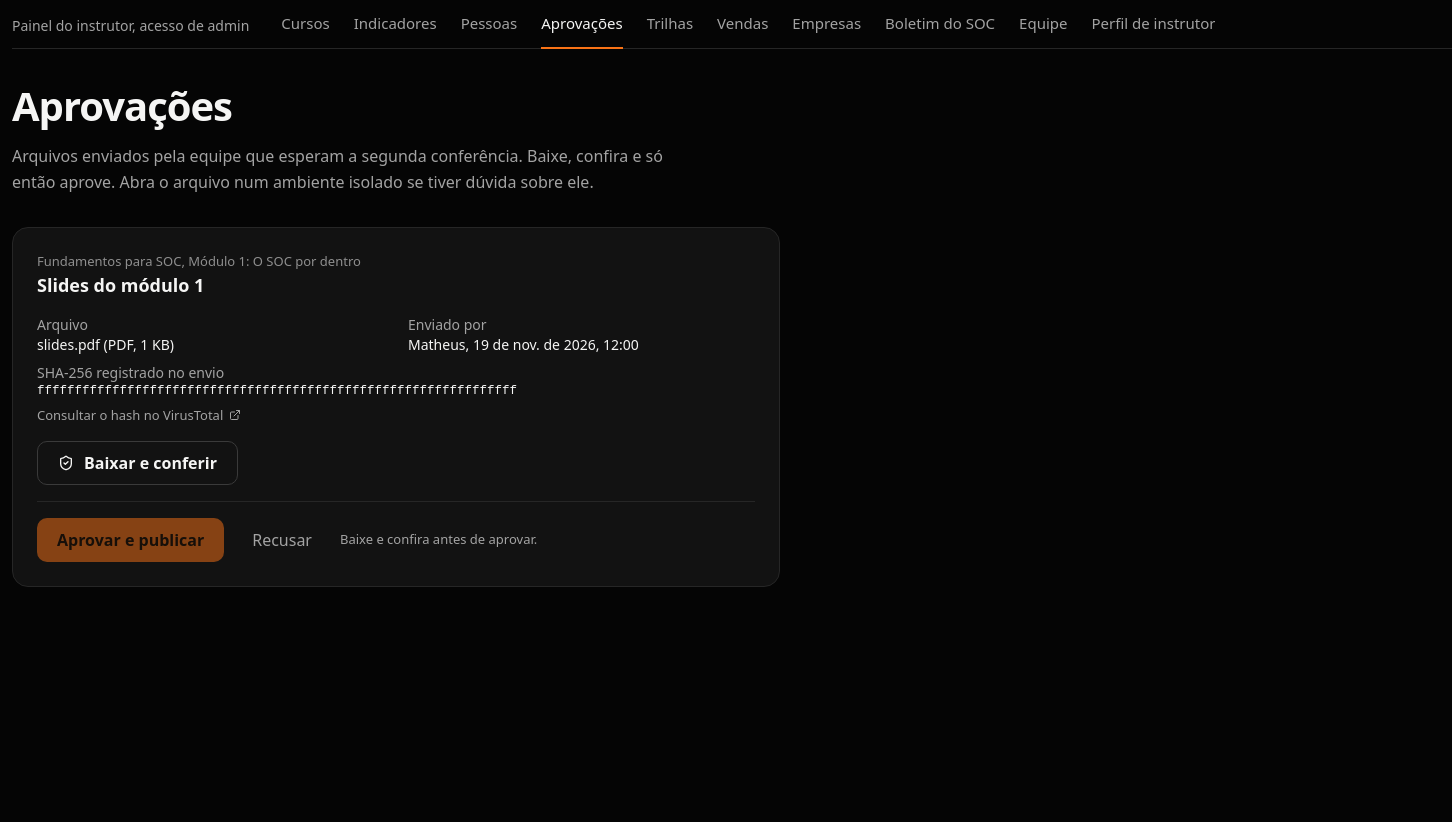
Scenario: Aprovações › hash diferente bloqueia a aprovação e orienta a recusar
Click the button "Baixar e conferir" at (138, 463), box [37,441,238,485]
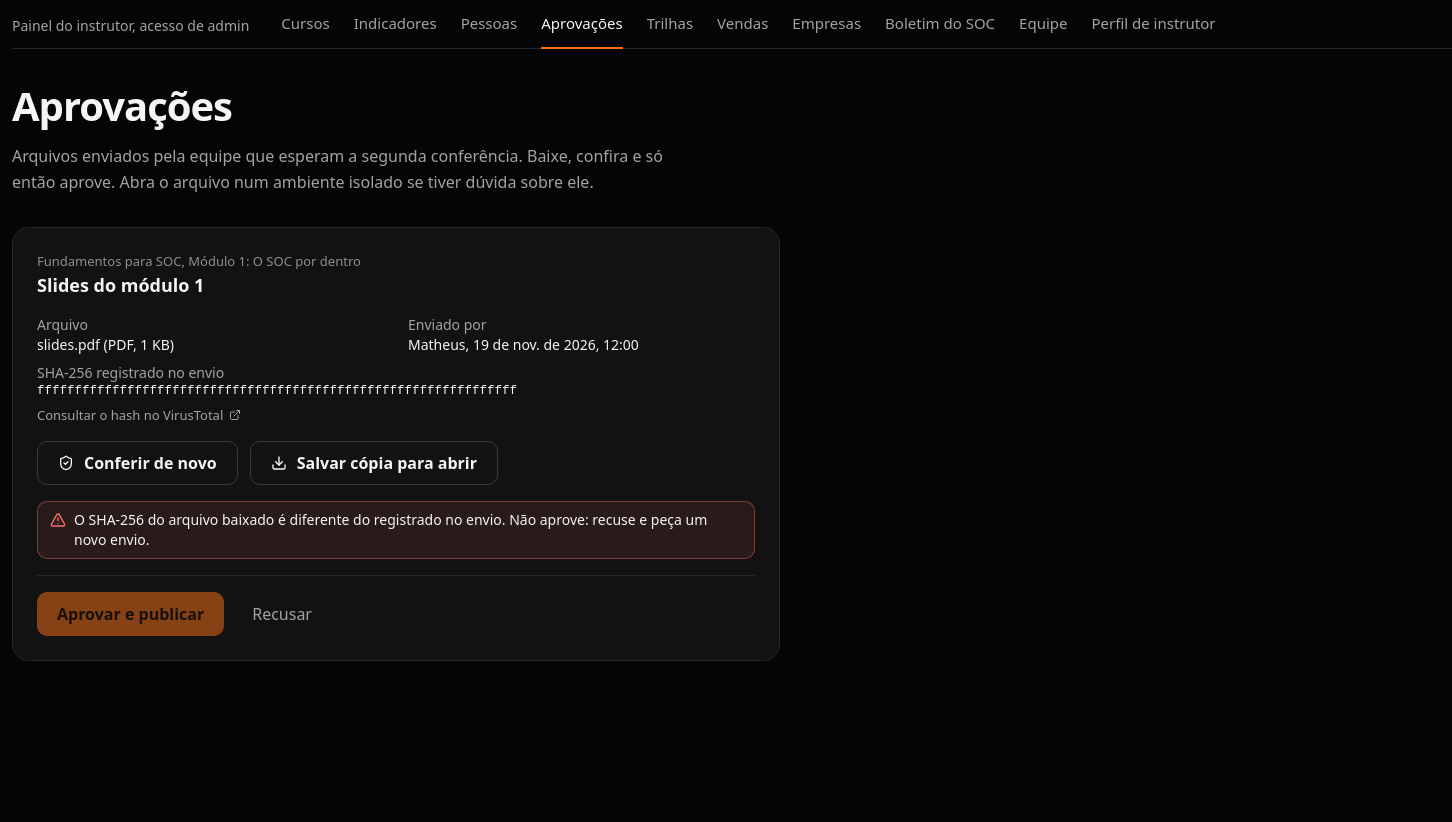
Expected: the button "Aprovar e publicar" is disabled, [37,592,224,636]
Result: the text "é diferente do registrado no envio" is shown at [74,510,707,549]
